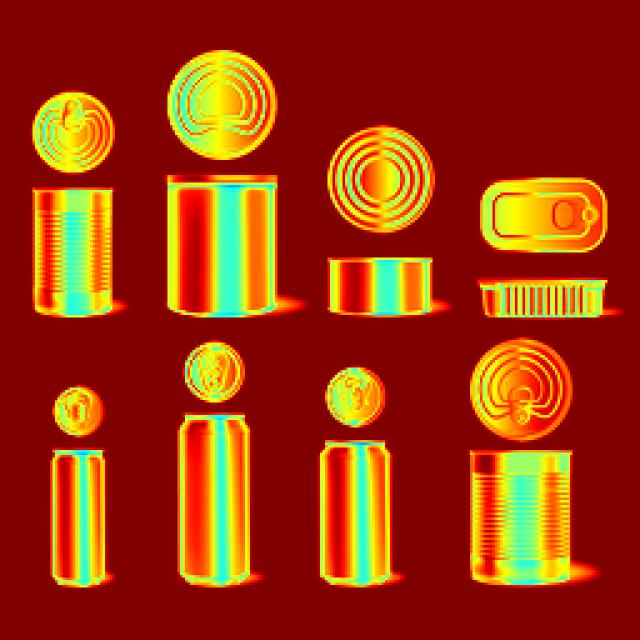Aluminium Food Cans: (164, 32, 282, 307), (23, 87, 140, 325), (470, 325, 573, 584), (474, 148, 607, 322), (173, 336, 264, 590), (306, 373, 402, 605), (32, 377, 138, 586), (340, 85, 430, 324)
